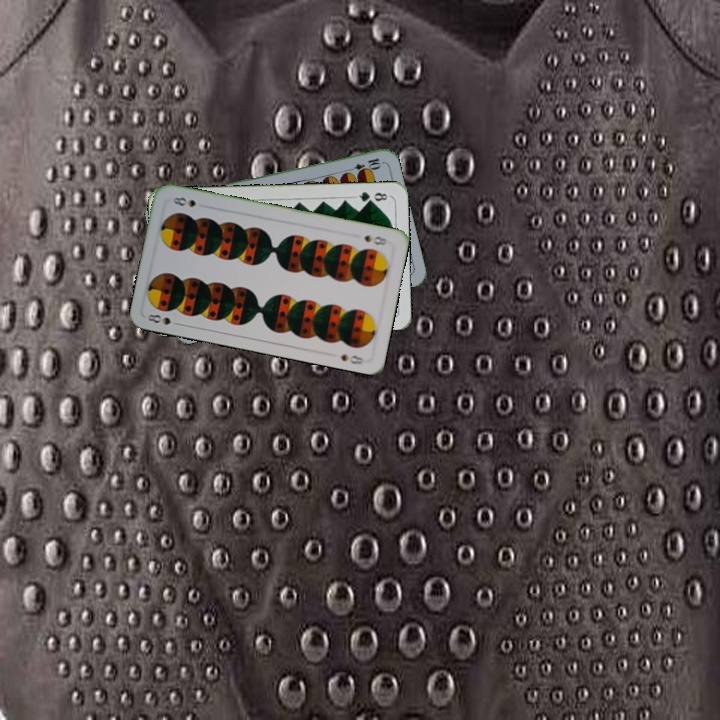E10: (343, 154, 383, 175)
G8: (351, 187, 392, 205)
S8: (143, 310, 184, 328), (360, 231, 389, 248)
